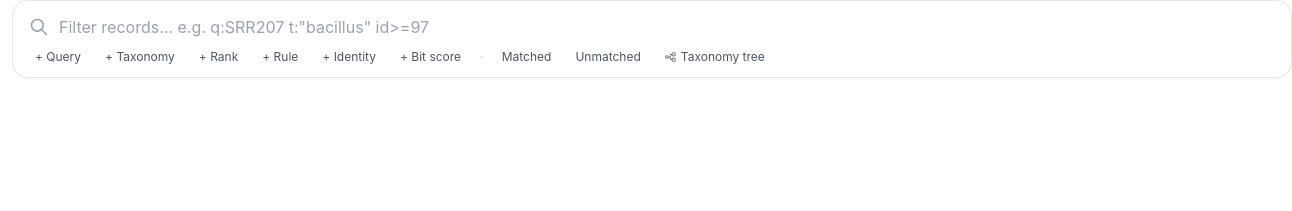
Test: FilterBar value suggestions › clicking a value adds its chip and clears the box
Click the button "+ Taxonomy" at x=140, y=57, box [95,47,185,67]
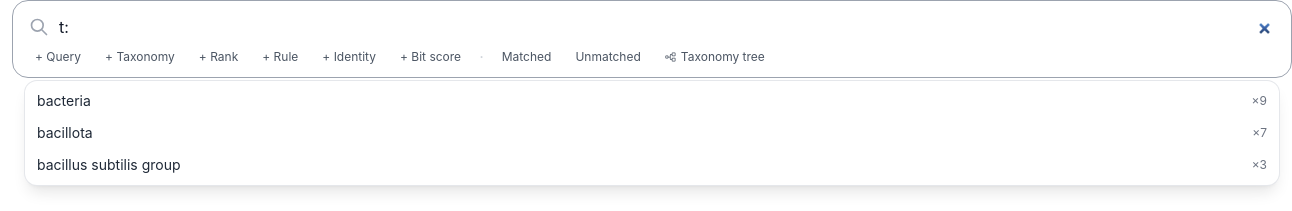
Click the option "bacillus subtilis group ×3" at x=109, y=164, box [37,156,1267,173]
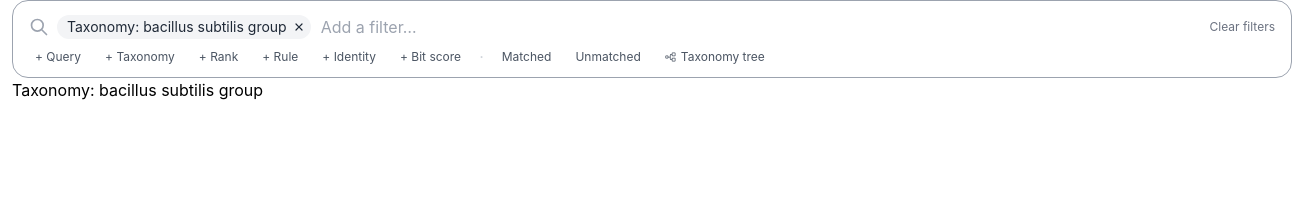
Now the element showing "Taxonomy: bacillus subtilis group" is shown, box [57,15,311,39]
Now the dropdown named "Filter records" is empty, box [319,13,1202,41]
Now the list is gone
